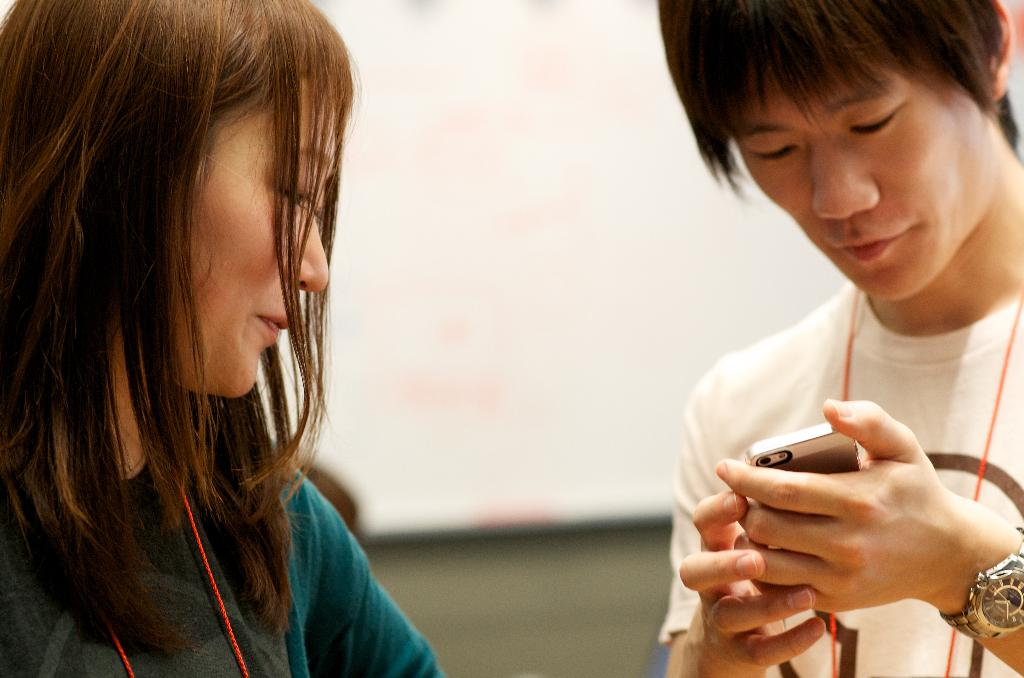Mobile-phone: (742, 416, 861, 550)
